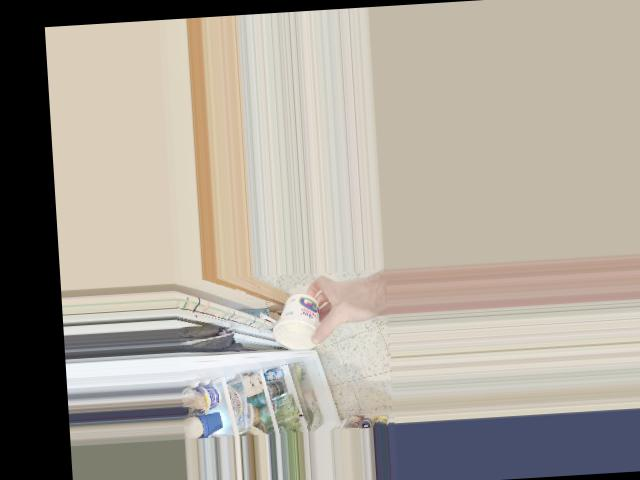cotage: (274, 293, 328, 339)
